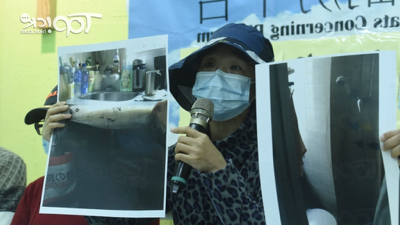with_mask: (191, 56, 255, 121)
